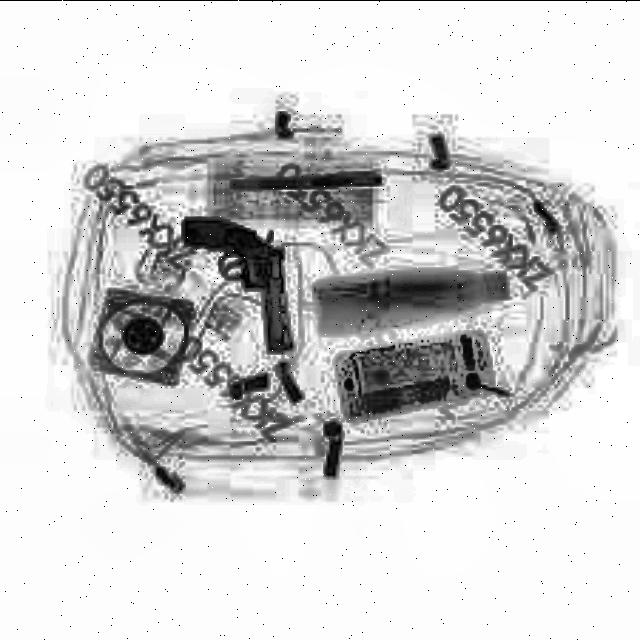Gun: (185, 210, 298, 352)
